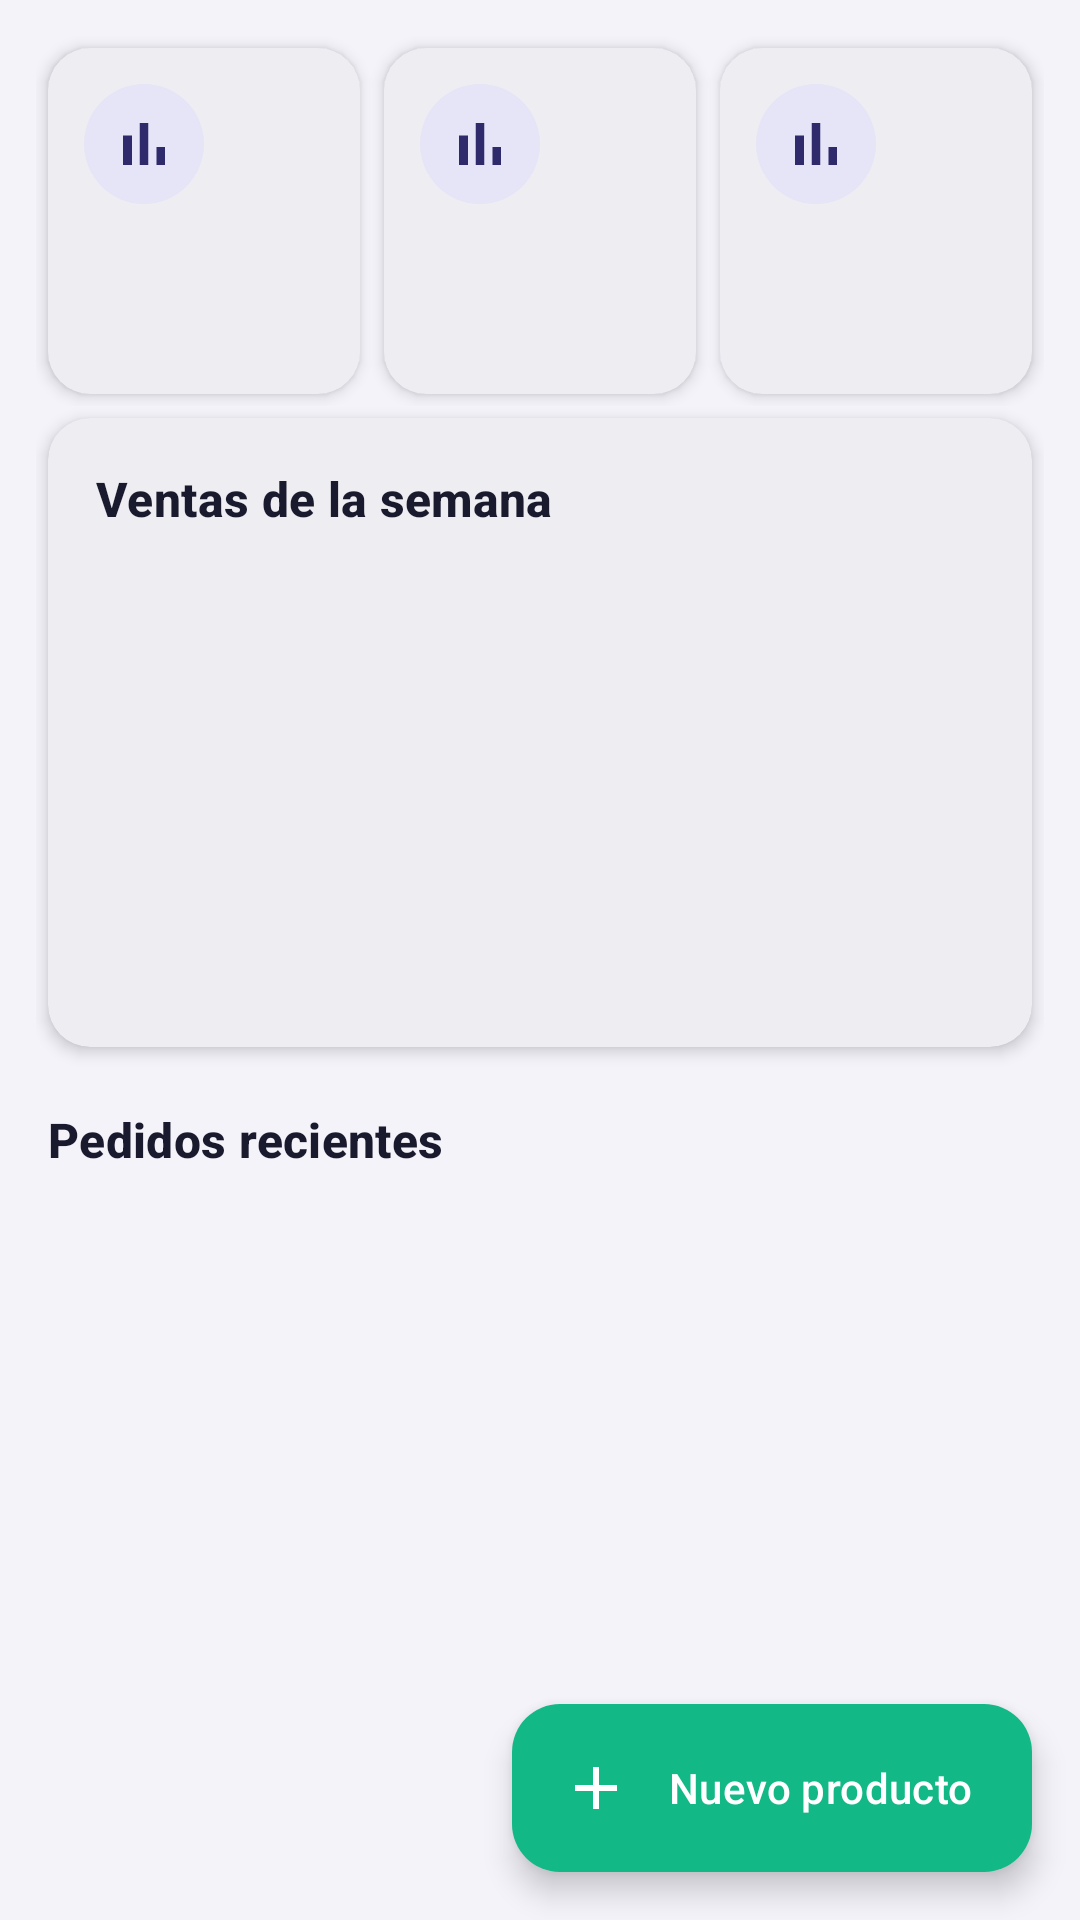

Icons on this 1080 × 1920 Android screen, each with its box as (x1, y1, x2, y2):
chart: (84, 84, 204, 204), (420, 84, 540, 204), (756, 84, 876, 204)
